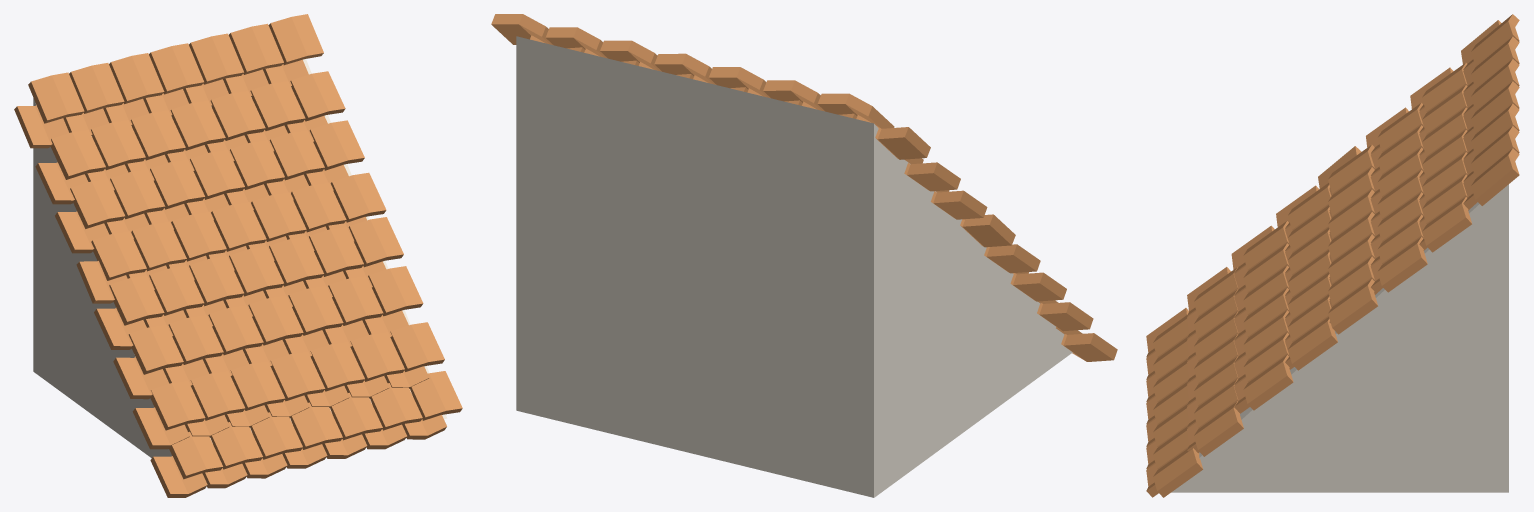
Rendered from BigRoof.fbx.
3 renders of one model, left to right at view 1: azimuth 30°, elevation 25°; view 2: azimuth 150°, elevation 25°; view 3: azimuth 270°, elevation 25°, orthographic. The views are drawn at different scales.
Parts seen in each view (by area): view 1: Cube.004, Cube.025, Cube.034, Cube.041, Cube.043, Cube.036, Cube.038, Cube.045, Cube.046, Cube.047, Cube.044, Cube.033 (+5 smaller); view 2: Cube.004, Cube.025, Cube.033, Cube.040, Cube.047, Cube.037, Cube.035, Cube.044, Cube.039, Cube.042; view 3: Cube.004, Cube.025, Cube.038, Cube.036, Cube.043, Cube.034, Cube.045, Cube.041, Cube.046, Cube.044, Cube.047, Cube.033 (+5 smaller).
Boxes of the visible parts, x1,y1,x2,y2 form: Cube.004: (33,59,447,458); Cube.025: (28,14,323,123); Cube.034: (50,71,345,179); Cube.041: (109,217,403,325); Cube.043: (128,266,423,374); Cube.036: (70,120,364,228); Cube.038: (91,172,386,280); Cube.045: (150,322,444,430); Cube.046: (169,371,462,479); Cube.047: (150,415,446,497); Cube.044: (113,310,408,399); Cube.033: (14,60,308,148); Cube.004: (516,36,1072,497); Cube.025: (491,14,894,128); Cube.033: (530,35,930,159); Cube.040: (960,214,1015,247); Cube.047: (1061,333,1117,361); Cube.037: (931,190,987,219); Cube.035: (904,162,960,191); Cube.044: (1010,272,1066,301); Cube.039: (1037,302,1093,331); Cube.042: (984,244,1040,273); Cube.004: (1171,184,1508,492); Cube.025: (1471,14,1519,205); Cube.038: (1328,145,1377,334); Cube.036: (1377,103,1427,292); Cube.043: (1243,221,1293,410); Cube.034: (1422,63,1471,252); Cube.045: (1193,267,1243,456); Cube.041: (1288,183,1337,370); Cube.046: (1153,315,1203,497); Cube.044: (1231,225,1274,413); Cube.047: (1146,308,1188,497); Cube.033: (1461,20,1501,210).
Bounding box in the file's own units: 226 × 222 × 215.
